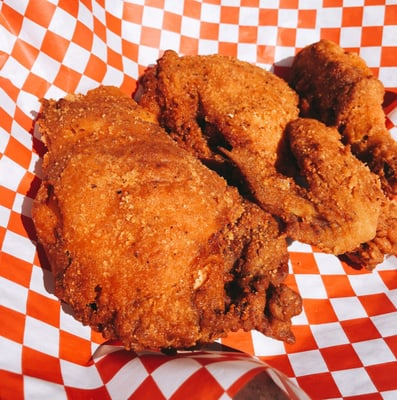soup: (130, 47, 390, 258)
